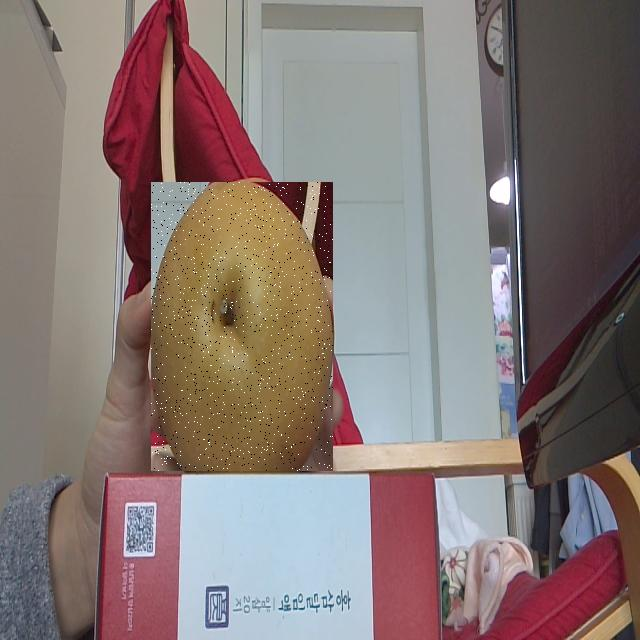pear: (151, 182, 333, 471)
